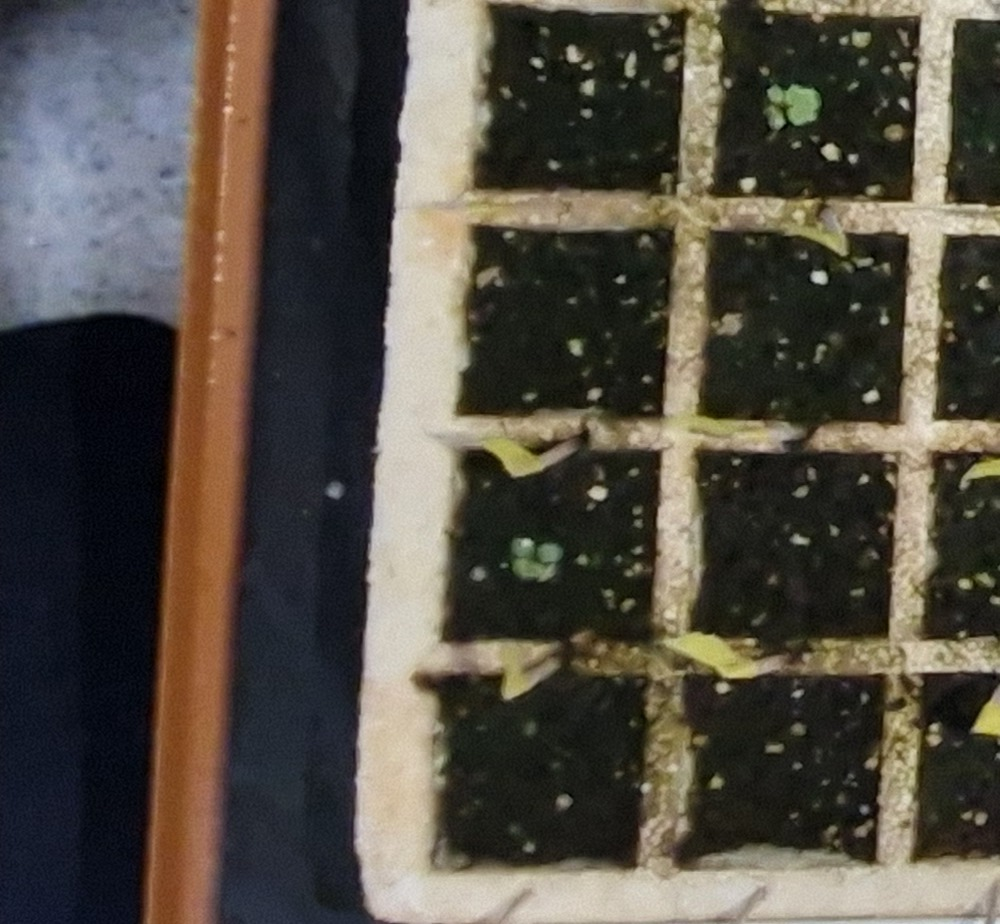Folha: (783, 85, 820, 126), (512, 557, 546, 578), (538, 544, 565, 562), (513, 538, 535, 557), (767, 106, 785, 129), (768, 85, 784, 101)
Germinacao: (764, 84, 820, 130), (509, 538, 563, 577)
